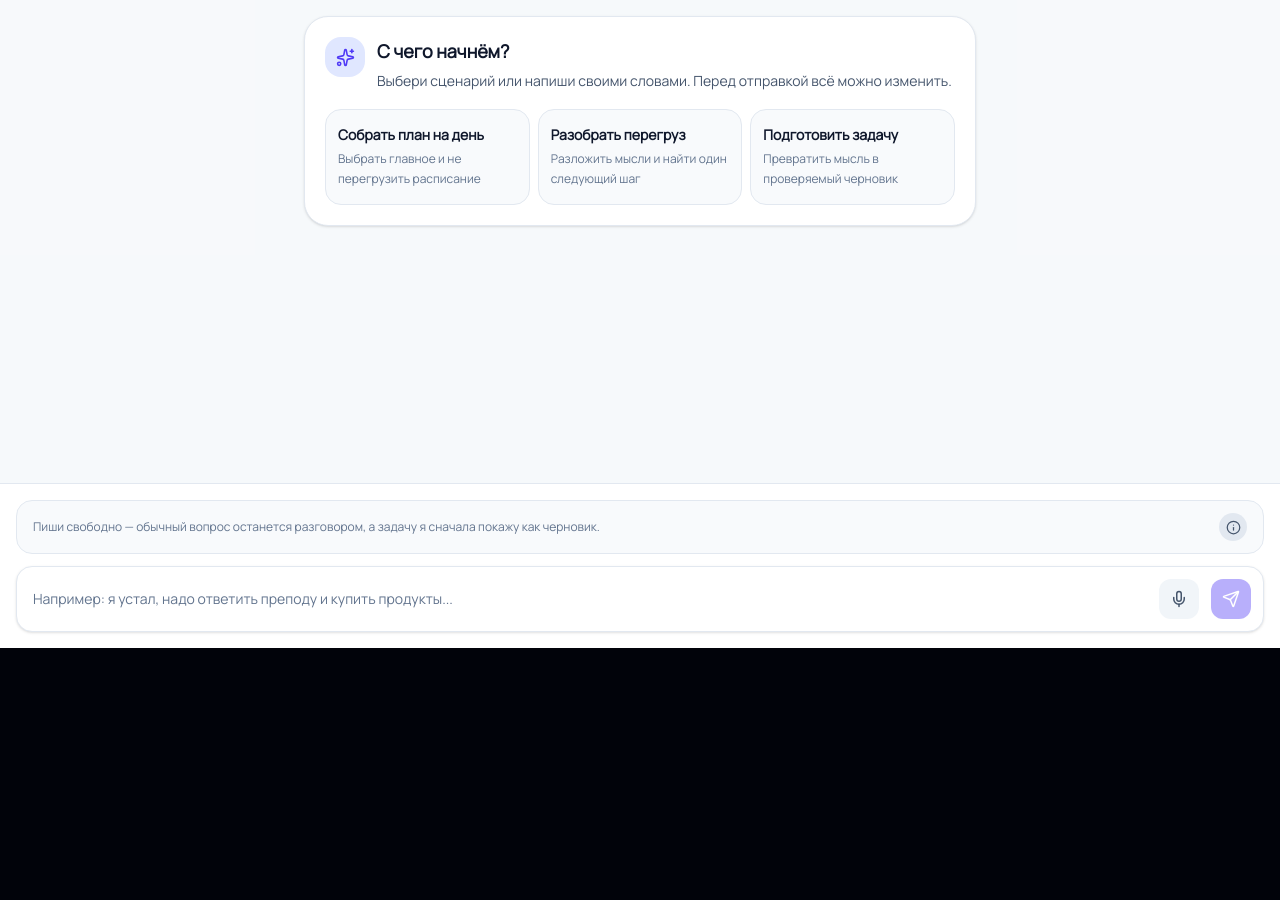
it: MindHubChat › keeps an AI draft unsaved until explicit confirmation
Replace the text in the text box with placeholder "Например:" with "Нужно ответить преподавателю" at (588, 599), box [29,579,1147,619]
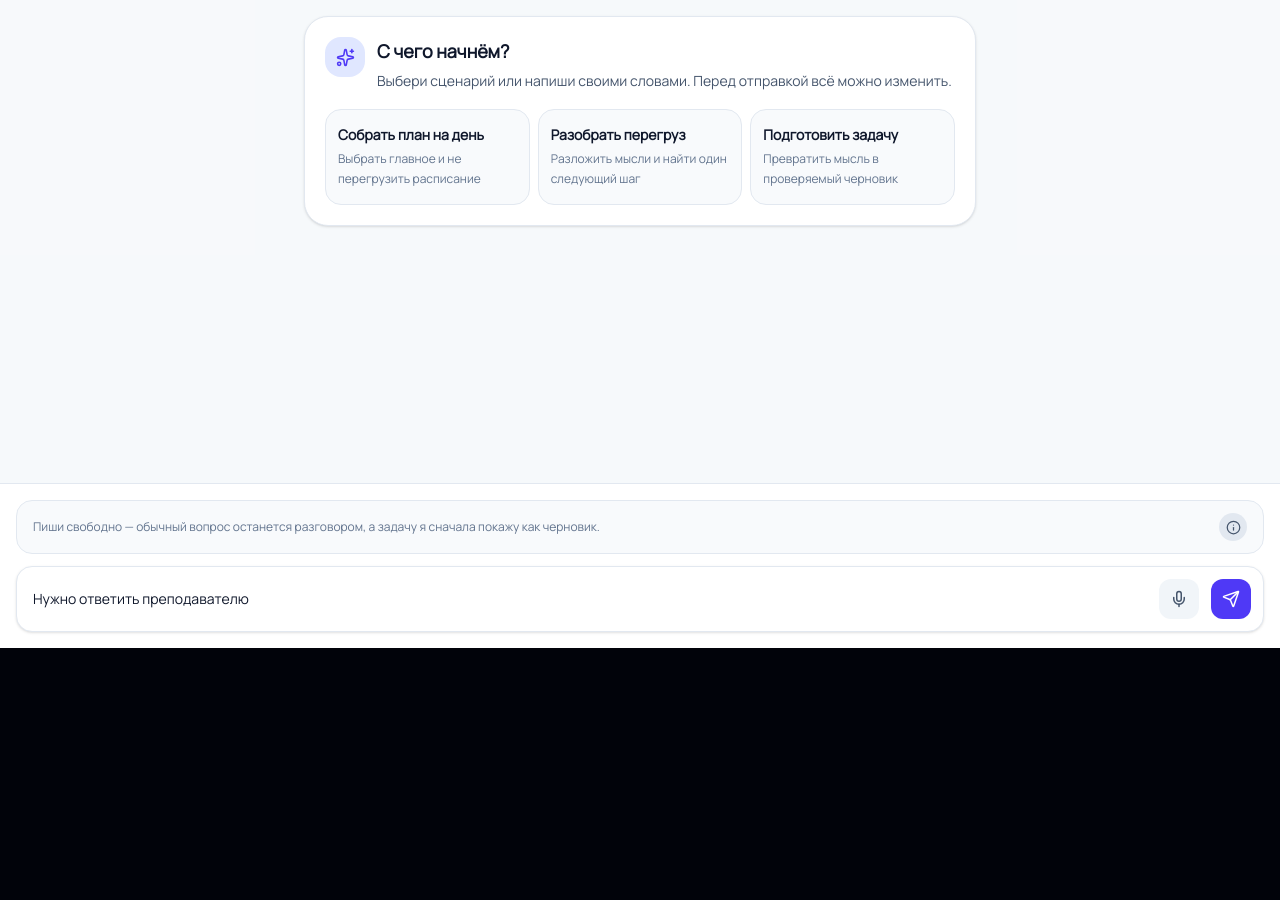
Click the button named "Отправить мысли".
click(1231, 599)  # box [1211,579,1251,619]
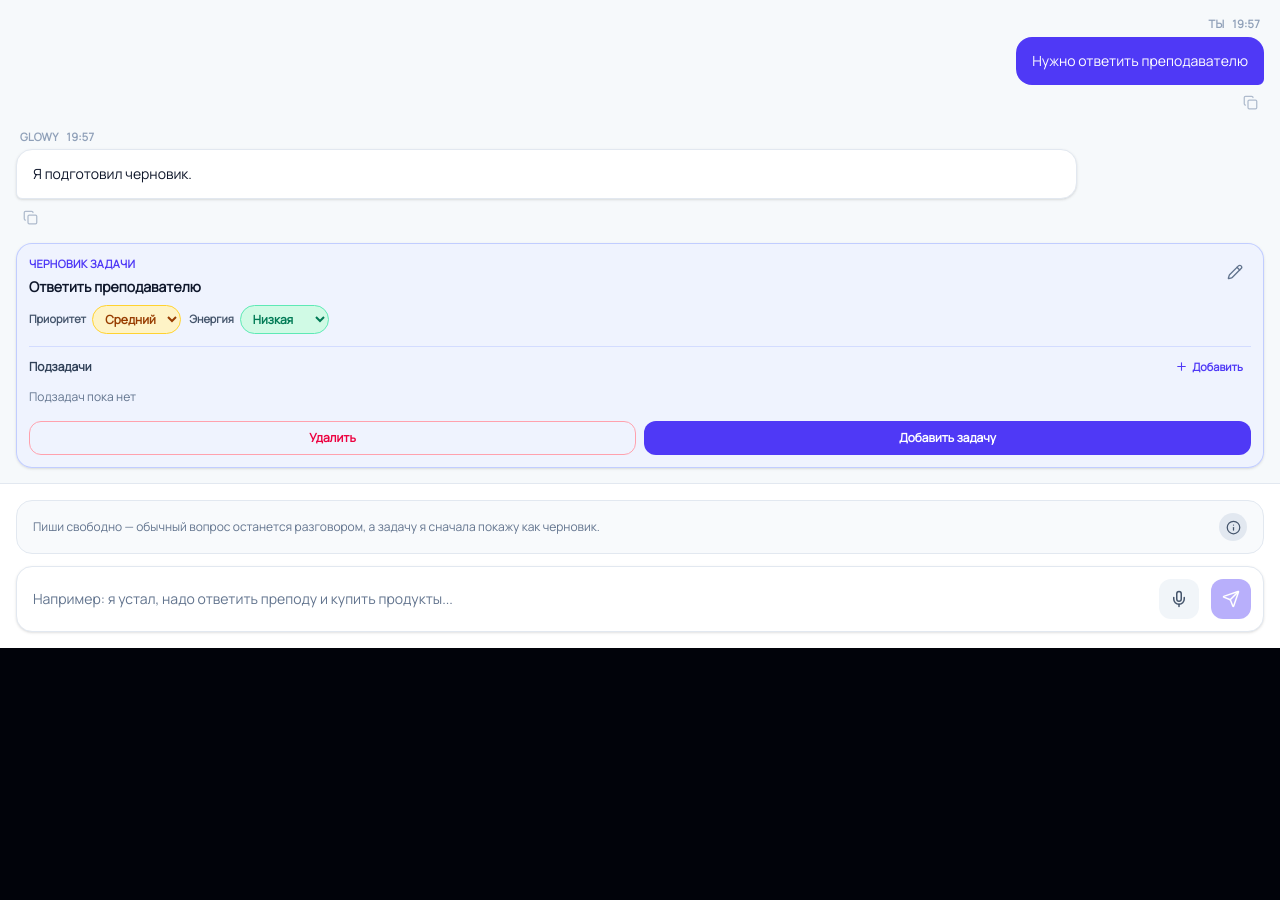
Result: the text "Черновик задачи" is shown at [29,256,135,271]
Click the button "Добавить задачу".
click(948, 438)  # box [644,421,1251,455]
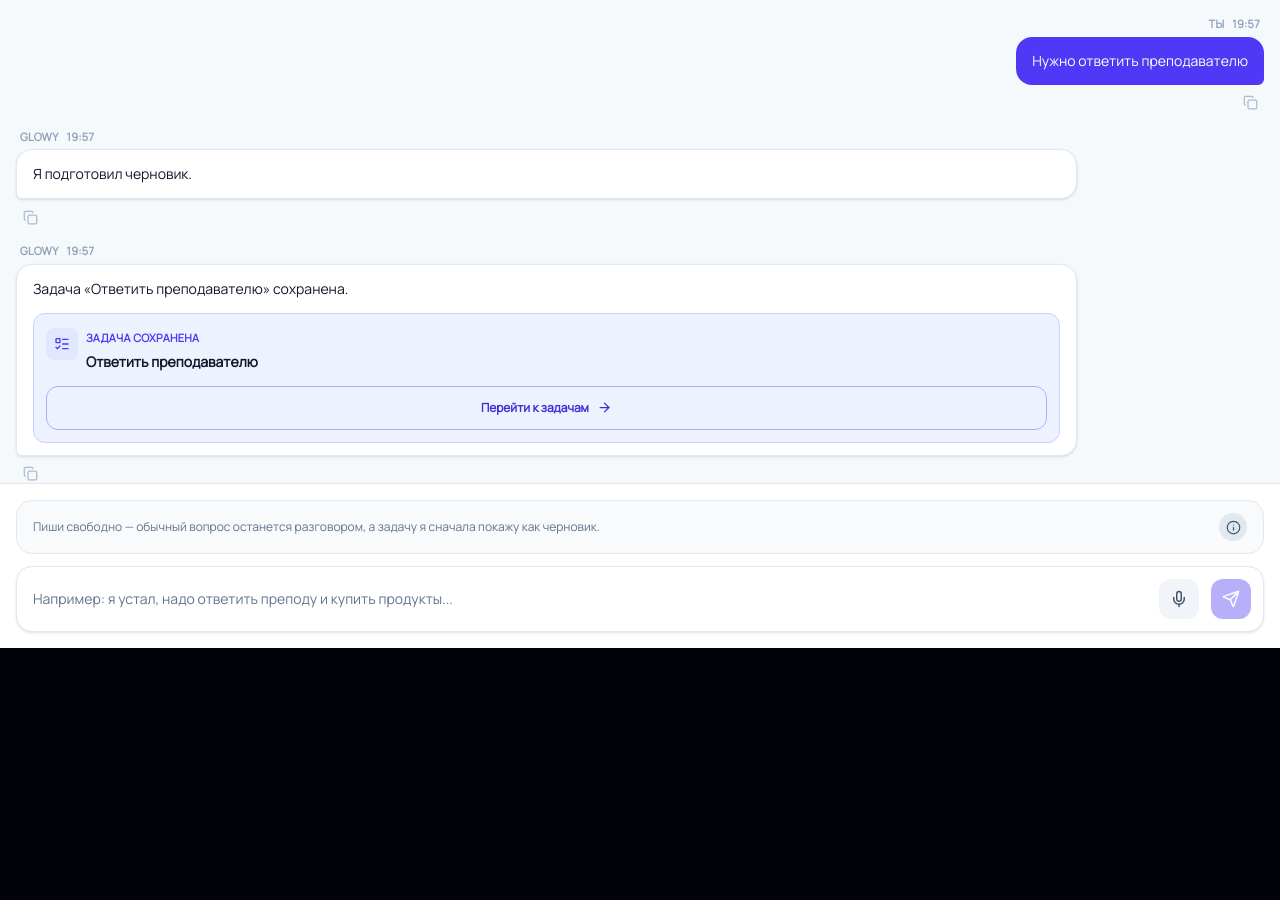
Result: the text "Задача «Ответить преподавателю» сохранена." is shown at [33,278,348,298]
Result: the text "Задача сохранена" is shown at [86,330,199,344]
